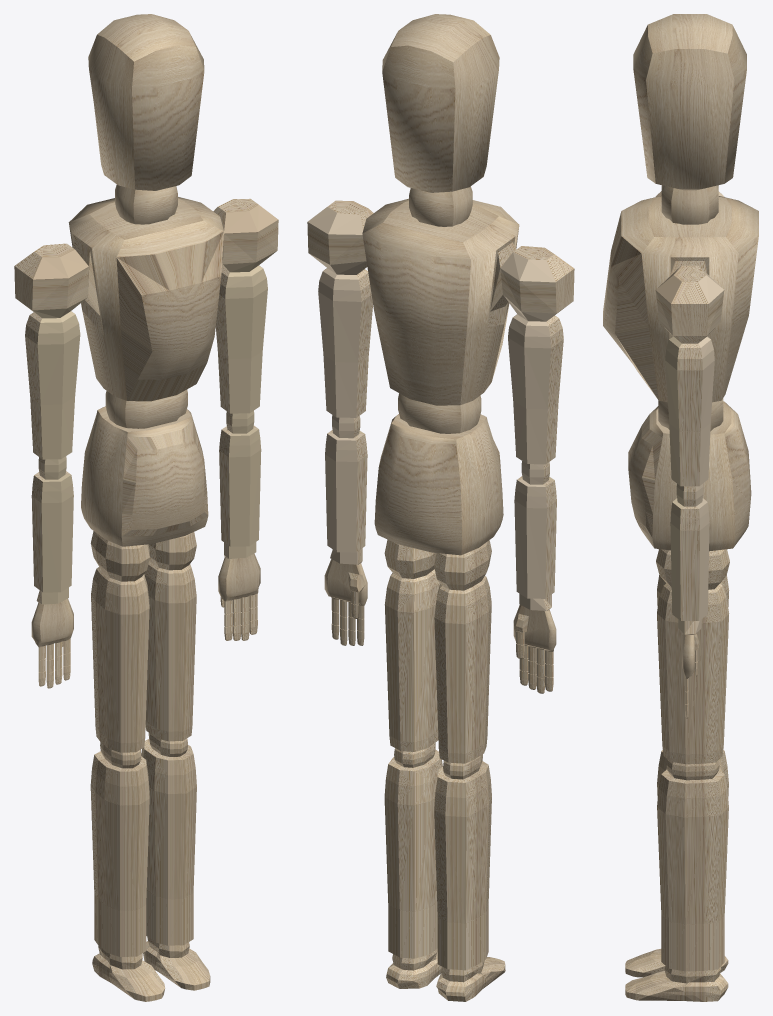
Rendered from my3Dobject4.fbx.
3 renders of one model, left to right at view 1: azimuth 30°, elevation 25°; view 2: azimuth 150°, elevation 25°; view 3: azimuth 270°, elevation 25°, orthographic.
Parts seen in each view (by area): view 1: Box001; view 2: Box001; view 3: Box001.
Part boxes in pixels (box(x1,y1,x2,y2)): Box001: box(14, 14, 278, 1001); Box001: box(307, 14, 574, 1001); Box001: box(603, 14, 758, 1001).
Bounding box in the file's own units: 18.95 × 10.28 × 69.95.
1 material, 1 textured.
